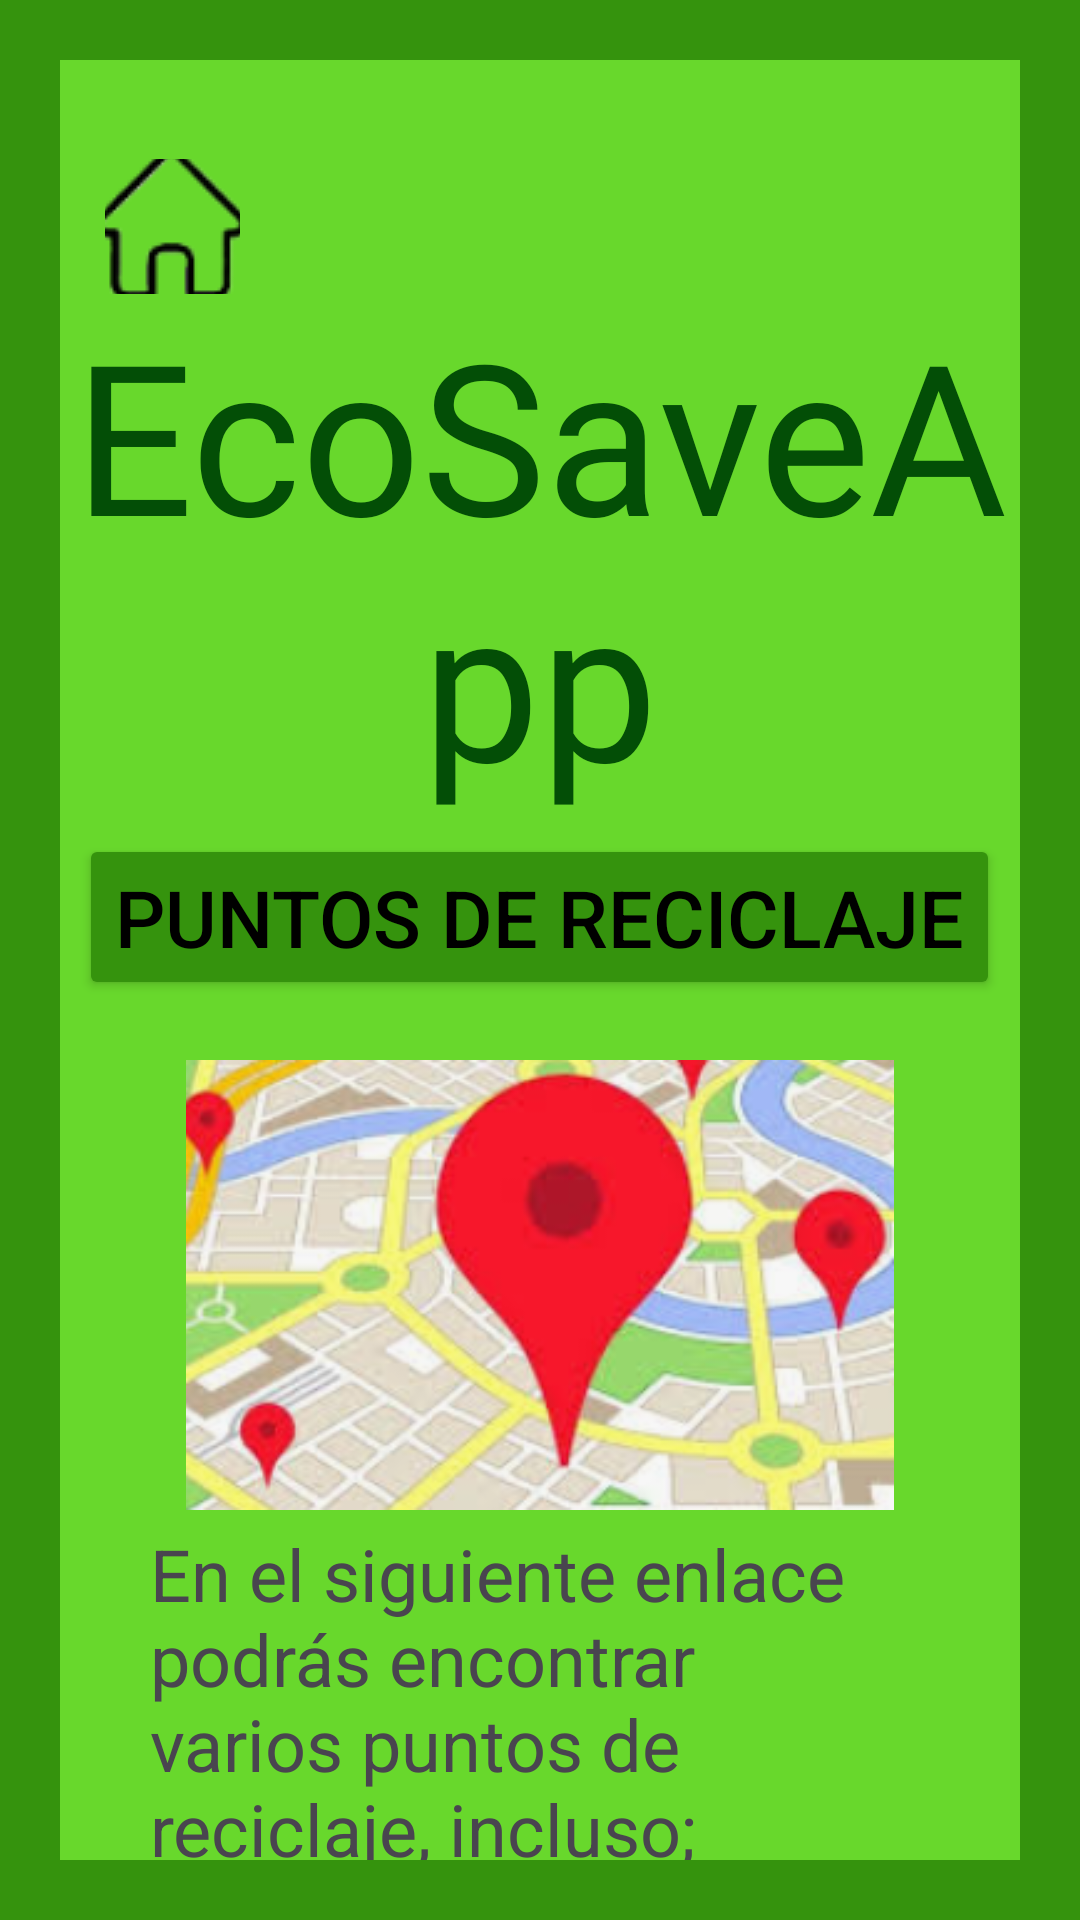

Icons on this 1080x1920 Android screen, each with the point to tap as (x,y):
casa: (172,226)
